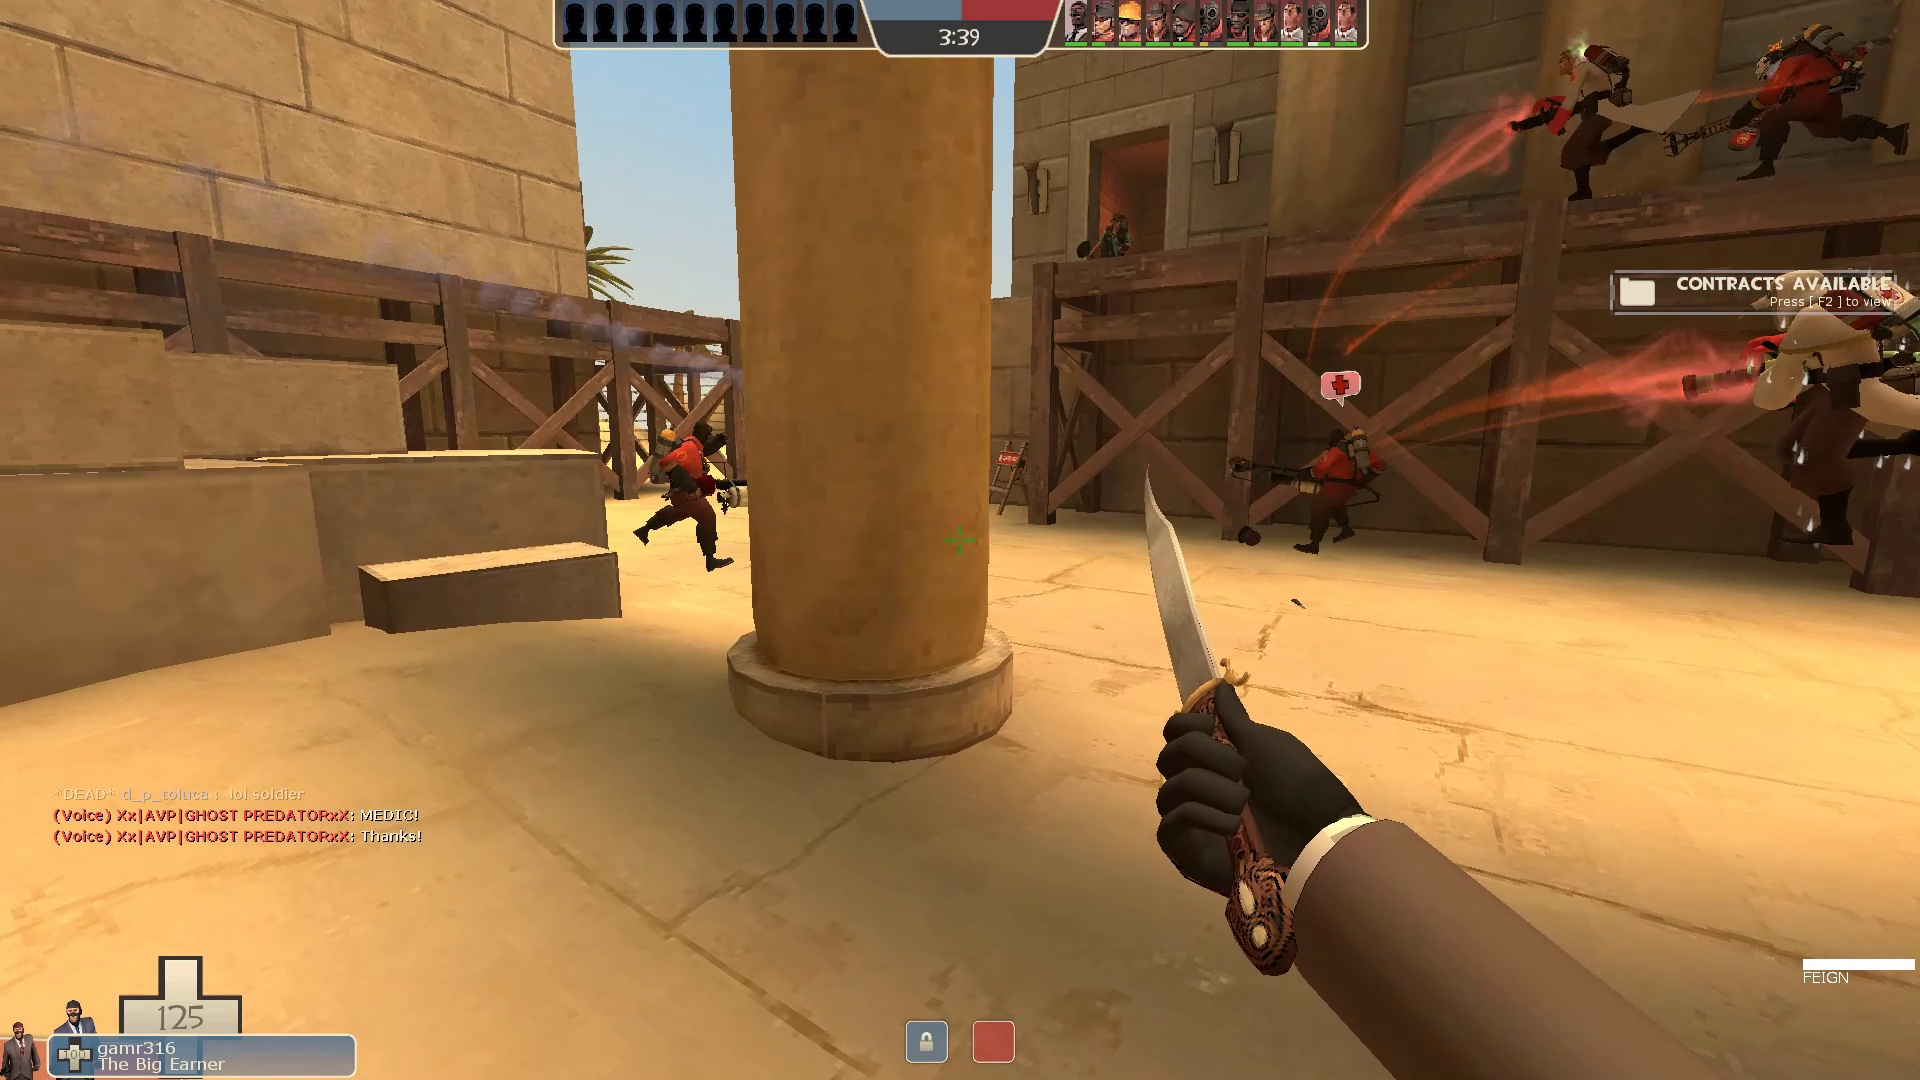blu_sniper: (1072, 208, 1142, 295)
red_medic: (1669, 244, 1920, 555), (1506, 30, 1701, 204)
red_pyro: (1656, 18, 1917, 203), (632, 419, 816, 579), (1218, 415, 1385, 564)
